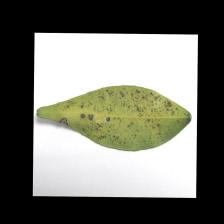canker: (74, 89, 161, 136)
